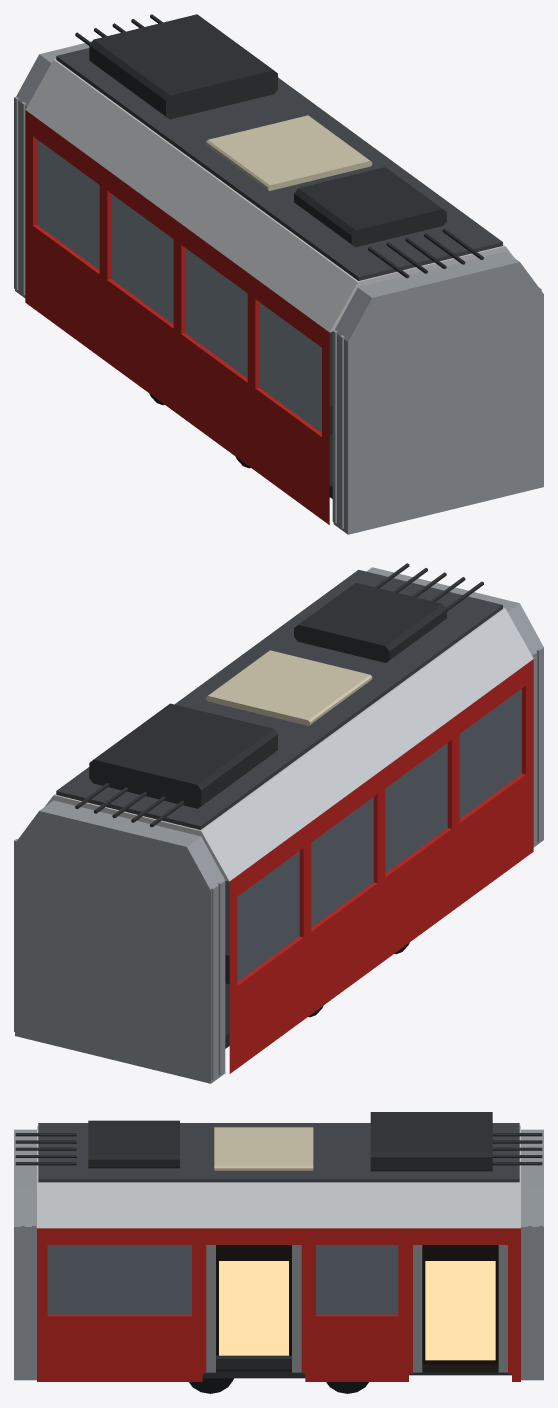
File: 14t-c-open.glb
The picture shows the model from 3 angles, top to bottom: view 1: azimuth 30°, elevation 25°; view 2: azimuth 150°, elevation 25°; view 3: azimuth 270°, elevation 25°; orthographic projection. The views are drawn at different scales.
Parts seen in each view (by area): view 1: 14t-c-open; view 2: 14t-c-open; view 3: 14t-c-open.
Part boxes in pixels (x1,y1,x2,y2): 14t-c-open: (14, 14, 543, 534); 14t-c-open: (14, 563, 543, 1083); 14t-c-open: (14, 1112, 543, 1393).
Bounding box in the file's own units: 2.46 × 3.34 × 6.95.
